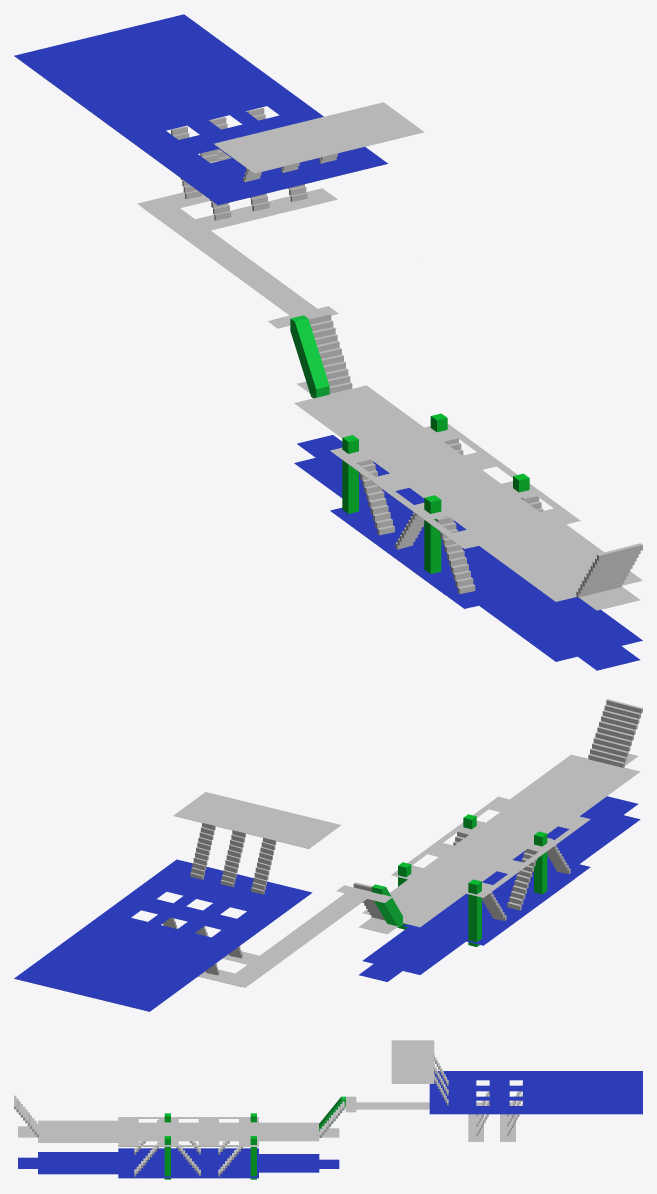
3 views of the same model, one above another, from view 1: azimuth 30°, elevation 25°; view 2: azimuth 150°, elevation 25°; view 3: azimuth 270°, elevation 25° (orthographic). The views are drawn at different scales.
Visible parts, largest first — view 1: Cube.007, Cube.001, Cube, Cube.008, Cube.006, 큐브.009, 큐브.005, 큐브.008, 큐브.004, 큐브.002, Cube.005, Cube.004; view 2: Cube.007, Cube.001, Cube, Cube.008, Cube.006, 큐브.009, Cube.004, 큐브.001, 큐브.018, 큐브.017, 큐브.016, Cube.005 (+1 smaller); view 3: Cube.007, Cube.001, Cube, Cube.008, Cube.006, 큐브.009, Cube.002, Cube.003, 큐브.005, 큐브.008.
Boxes of the visible parts, x1,y1,x2,y2 form: Cube.007: [14, 14, 387, 205]; Cube.001: [294, 381, 642, 610]; Cube: [294, 435, 642, 670]; Cube.008: [214, 102, 423, 173]; Cube.006: [137, 188, 338, 328]; 큐브.009: [576, 543, 642, 597]; 큐브.005: [308, 313, 352, 393]; 큐브.008: [290, 315, 329, 398]; 큐브.004: [436, 516, 475, 593]; 큐브.002: [357, 459, 394, 535]; Cube.005: [424, 495, 441, 573]; Cube.004: [342, 435, 358, 513]; Cube.007: [14, 859, 312, 1011]; Cube.001: [359, 753, 640, 934]; Cube: [359, 796, 640, 981]; Cube.008: [173, 792, 340, 848]; Cube.006: [198, 885, 392, 987]; 큐브.009: [588, 699, 642, 767]; Cube.004: [468, 879, 481, 946]; 큐브.001: [507, 849, 538, 910]; 큐브.018: [251, 838, 276, 894]; 큐브.017: [220, 830, 245, 886]; 큐브.016: [190, 823, 215, 879]; Cube.005: [534, 831, 547, 894]; Cube.007: [429, 1071, 642, 1114]; Cube.001: [18, 1117, 339, 1146]; Cube: [18, 1148, 339, 1178]; Cube.008: [391, 1040, 434, 1083]; Cube.006: [345, 1096, 515, 1141]; 큐브.009: [14, 1095, 38, 1137]; Cube.002: [164, 1136, 170, 1179]; Cube.003: [250, 1136, 256, 1179]; 큐브.005: [319, 1101, 344, 1137]; 큐브.008: [319, 1096, 345, 1131].
Bounding box in the file's own units: 1041 × 1067 × 4900.
